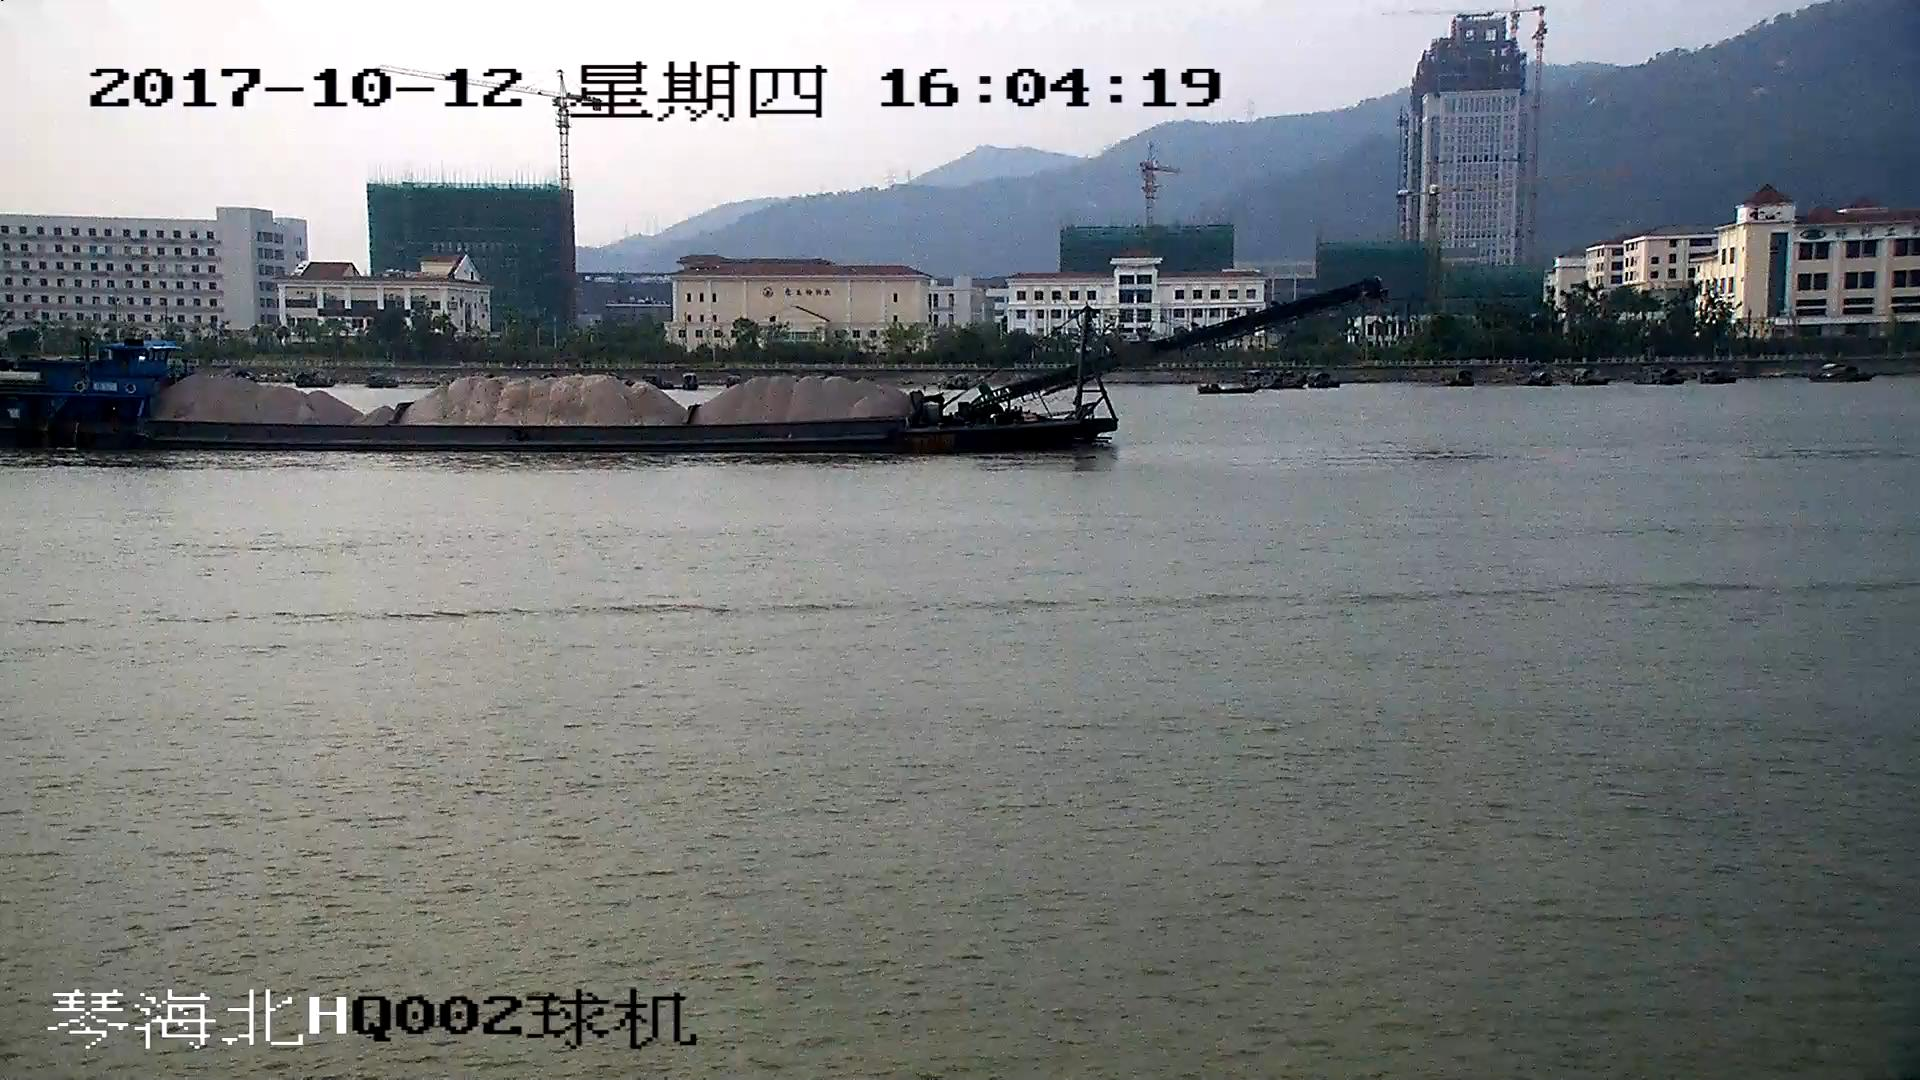ore carrier: (1, 281, 1374, 453)
